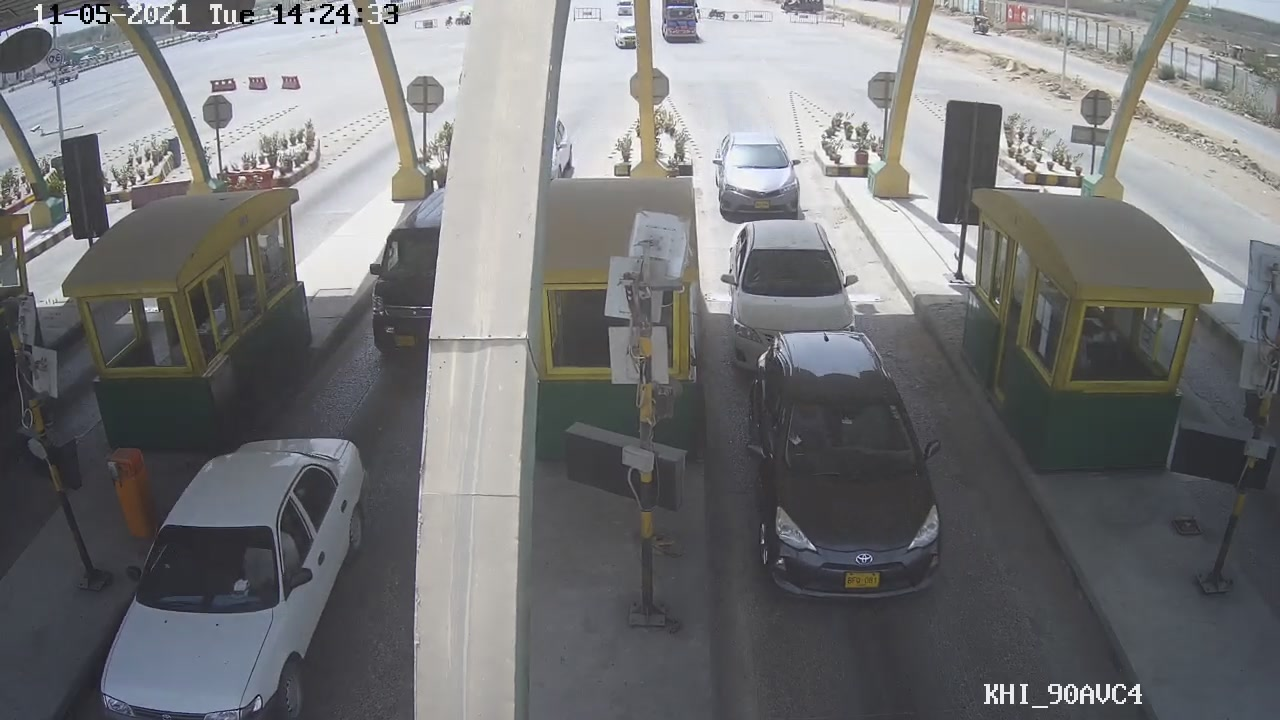F1: (736, 329, 948, 604)
